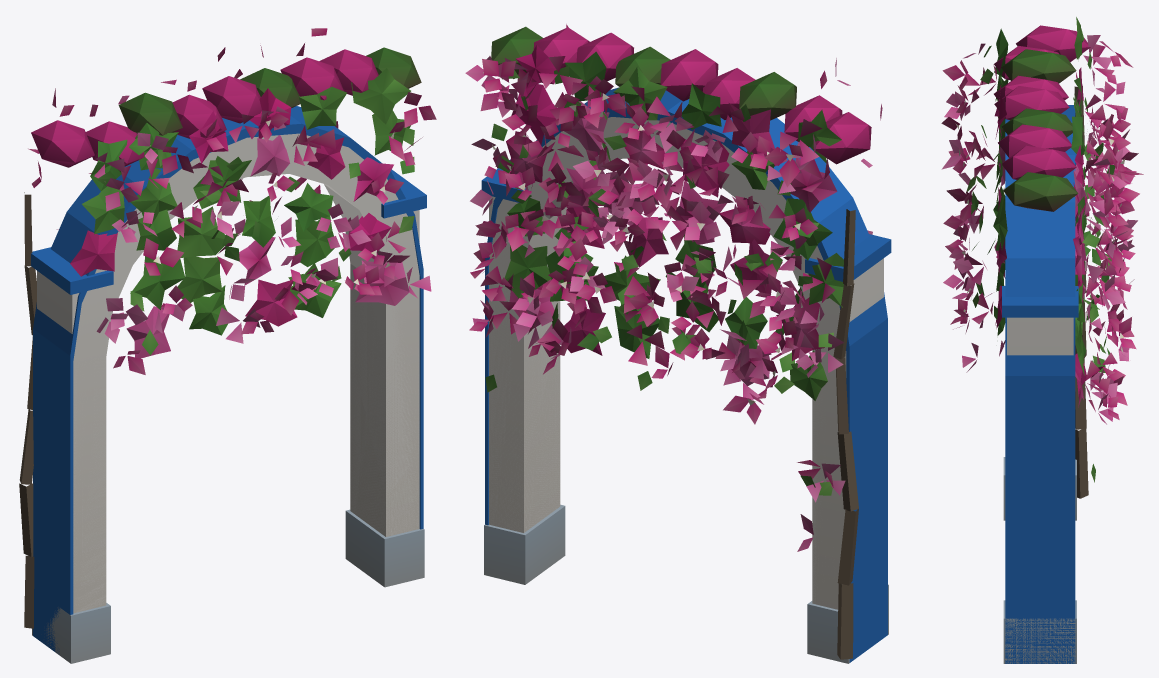
File: arch_sbs.glb
3 renders of one model, left to right at view 1: azimuth 30°, elevation 25°; view 2: azimuth 150°, elevation 25°; view 3: azimuth 270°, elevation 25°, orthographic. The views are drawn at different scales.
Parts seen in each view (by area): view 1: arch_sbs; view 2: arch_sbs; view 3: arch_sbs.
Boxes of the visible parts, x1,y1,x2,y2 form: arch_sbs: [19, 28, 436, 663]; arch_sbs: [465, 24, 891, 663]; arch_sbs: [941, 17, 1143, 663].
Bounding box in the file's own units: 2.42 × 3.34 × 1.22.
